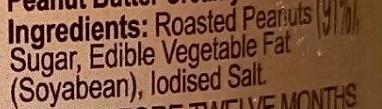ingredients: (4, 15, 359, 109)
